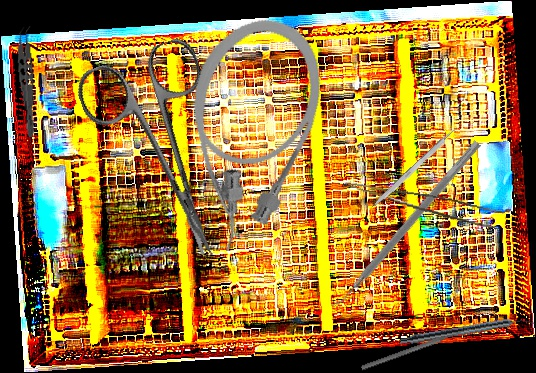Cannula: (149, 2, 341, 265)
Handpiece: (397, 313, 536, 349)
Iris Scissors: (71, 34, 261, 276)
Pusher: (360, 325, 472, 372)
Scalpel Handle: (370, 126, 459, 211)
Spatula Surgical: (326, 133, 482, 314)
Tissue Forceps: (340, 181, 505, 230), (13, 25, 45, 138)
